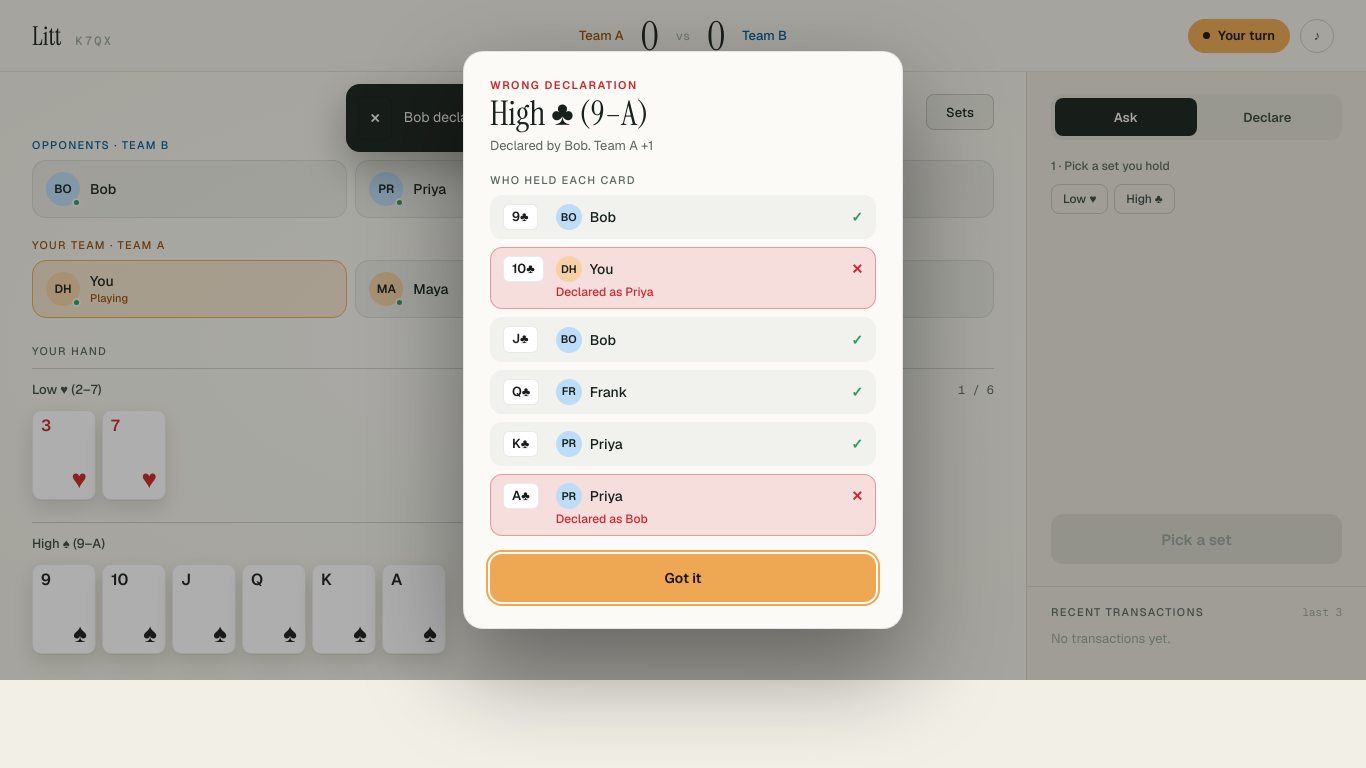
Scenario: RoomPage: wrong declarations › closes with 'Got it', leaving the table as it was
expect the dialog "Wrong declaration" is shown: met, box [463,51,903,629]
Click the button "Got it" at (683, 578), box [490,554,876,602]
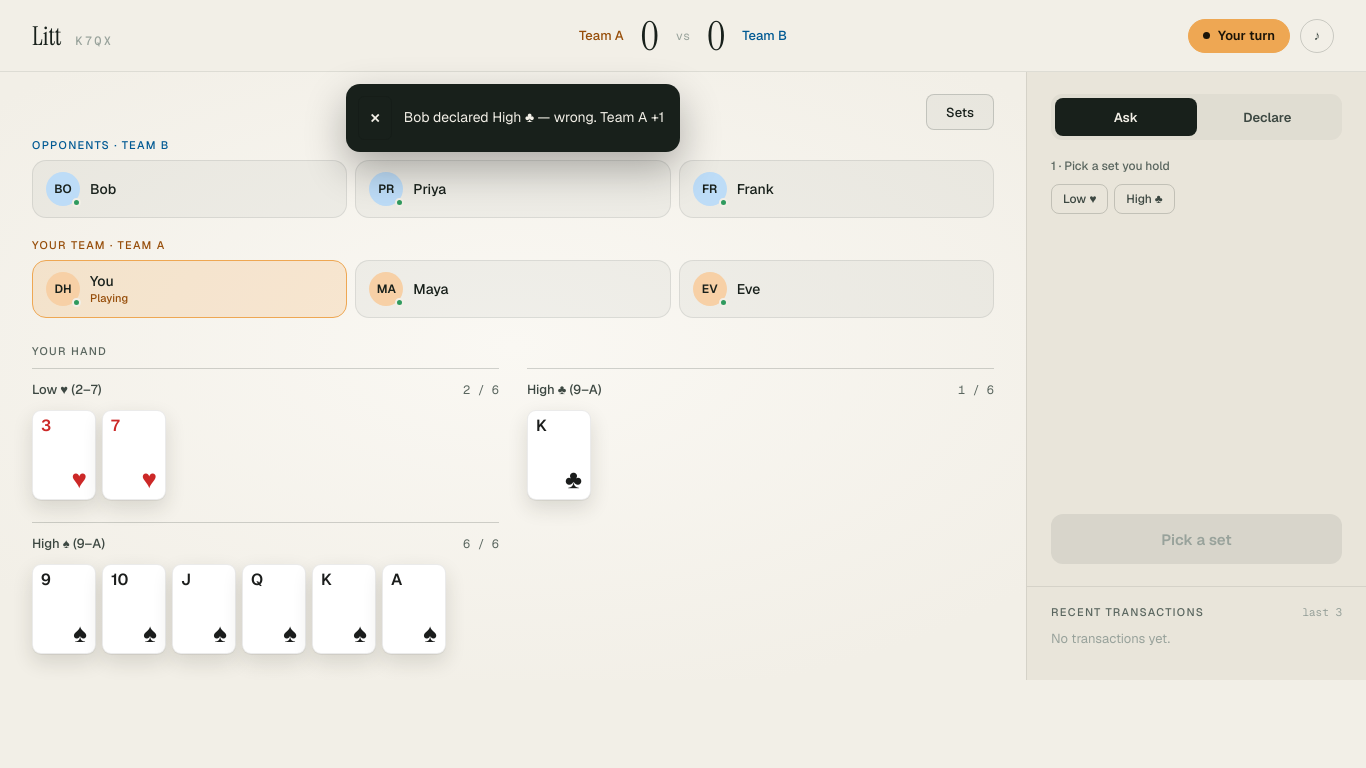
expect the element "Your hand" is shown: met, box [32,338,994,654]
expect the dialog is gone: met
